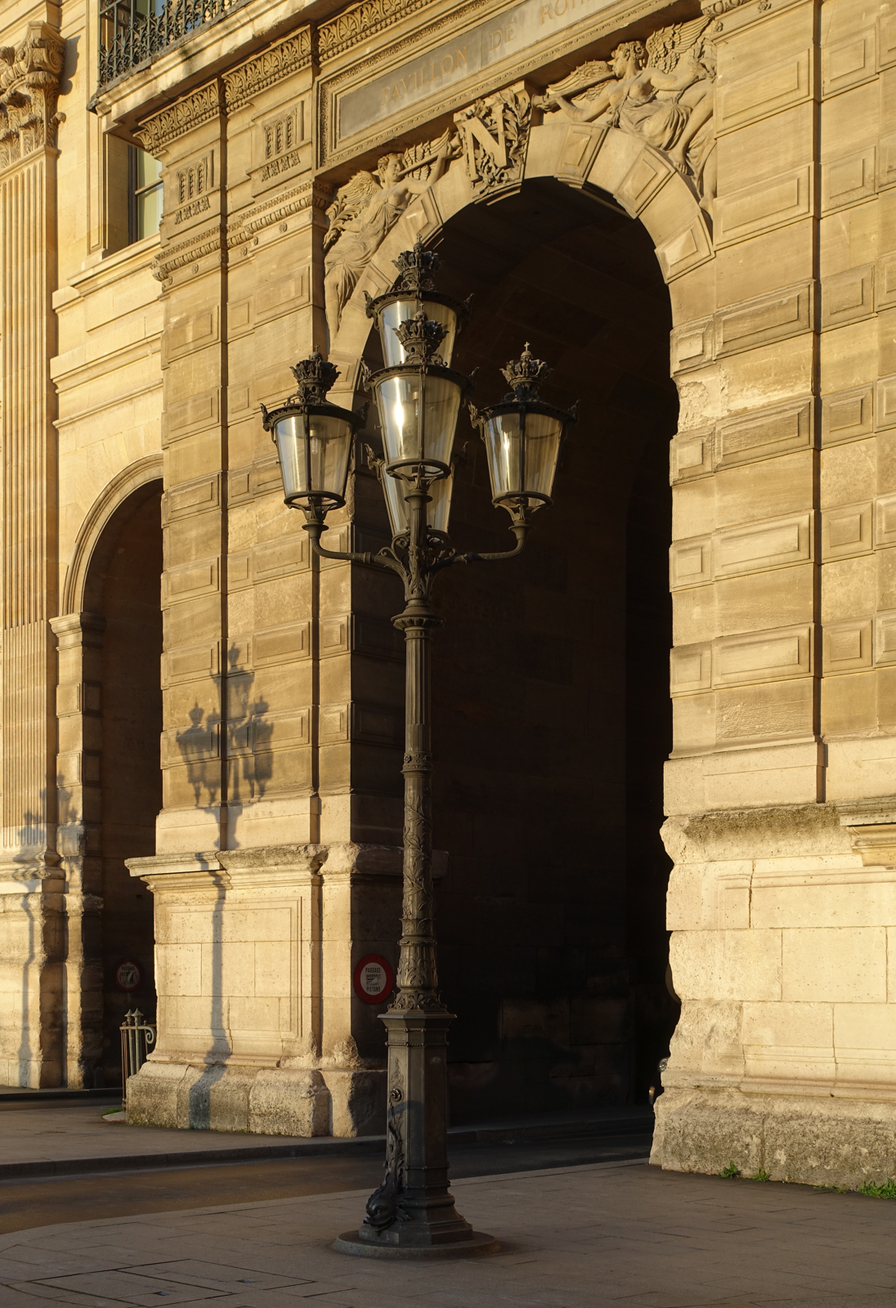fachada: (0, 4, 895, 1214)
poste: (208, 200, 609, 1283)
